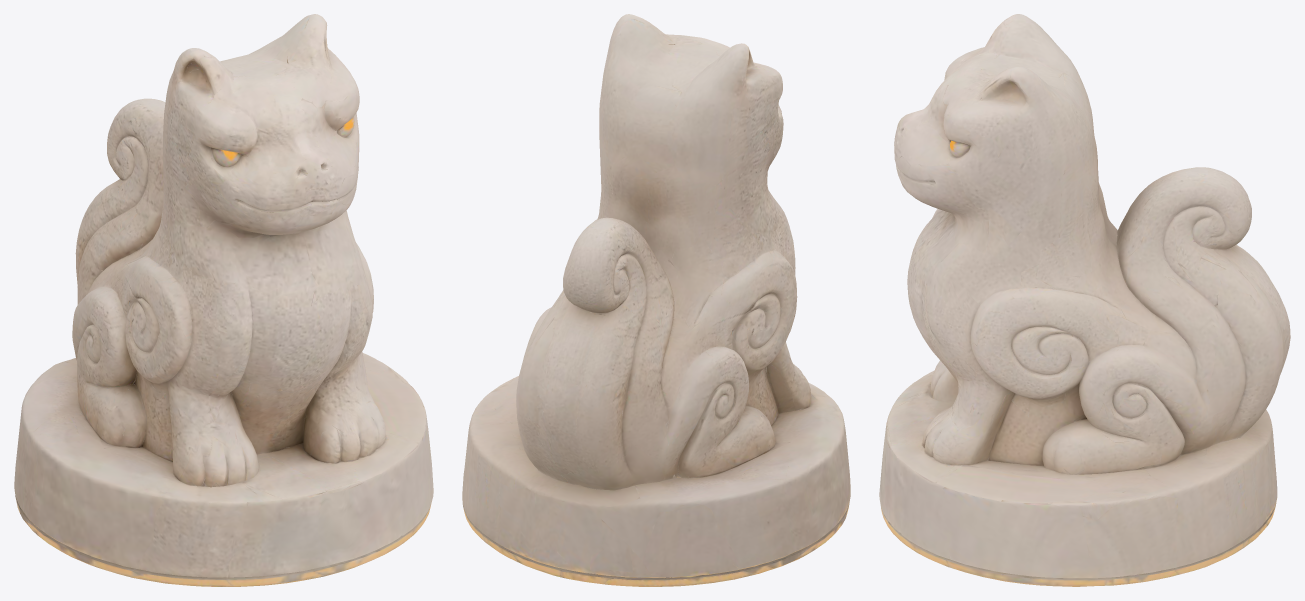
The model's file is majuon-seosu-lamp.glb.
The picture shows the model from 3 angles, left to right: view 1: azimuth 30°, elevation 25°; view 2: azimuth 150°, elevation 25°; view 3: azimuth 270°, elevation 25°; orthographic projection. The views are drawn at different scales.
Visible parts, largest first — view 1: output_unwrapped; view 2: output_unwrapped; view 3: output_unwrapped.
Boxes of the visible parts, bbox=[...] form: output_unwrapped: bbox=[14, 14, 433, 586]; output_unwrapped: bbox=[462, 14, 850, 586]; output_unwrapped: bbox=[879, 14, 1290, 586].
Size of the model in its own units: 1.45 by 1.9 by 1.51.
1 material, 1 textured.
